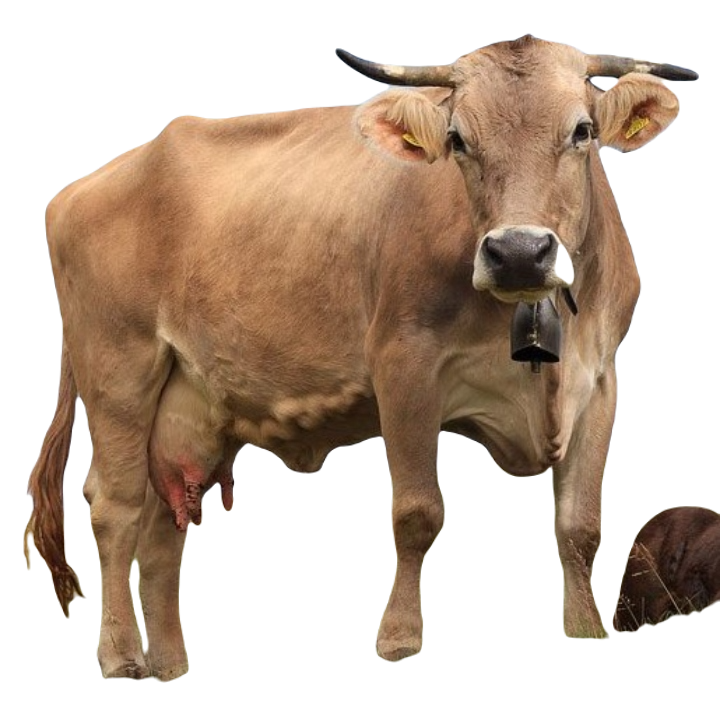Cow: (27, 33, 701, 685)
